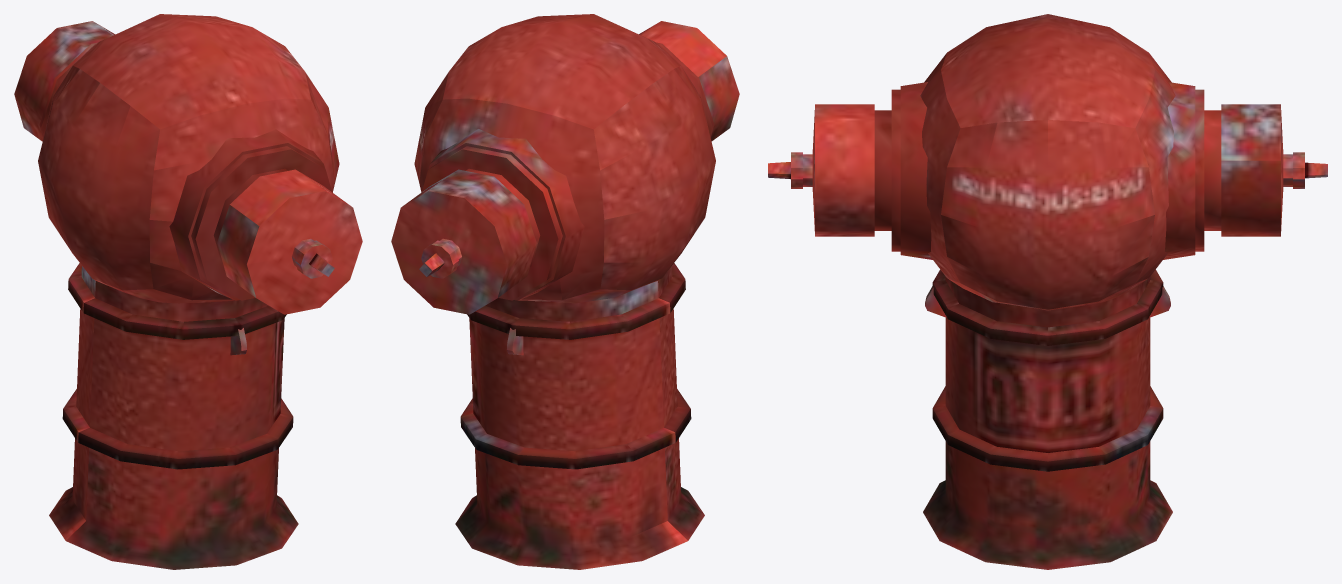
Rendered from hydrant.glb.
3 renders of one model, left to right at view 1: azimuth 30°, elevation 25°; view 2: azimuth 150°, elevation 25°; view 3: azimuth 270°, elevation 25°, orthographic.
Size of the model in its own units: 0.4394 by 0.7951 by 0.813.
1 material, 1 textured.
